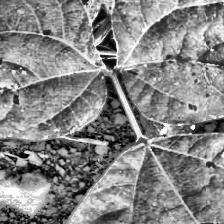ALS: (0, 0, 103, 157), (116, 0, 224, 121), (80, 136, 224, 224)
